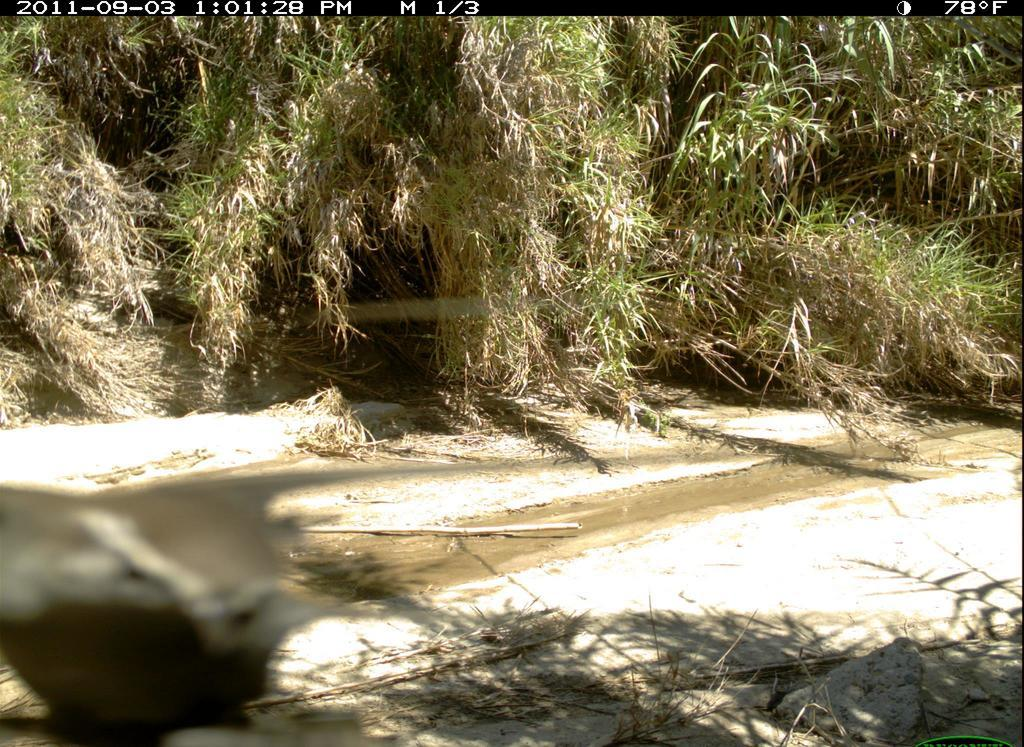bird: (2, 447, 350, 740)
